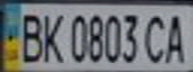0: (66, 9, 87, 64), (103, 9, 124, 63)
3: (121, 9, 142, 64)
8: (84, 10, 106, 64)
A: (160, 10, 193, 64)
B: (15, 9, 45, 63)
C: (139, 9, 172, 64)
K: (36, 9, 66, 64)
